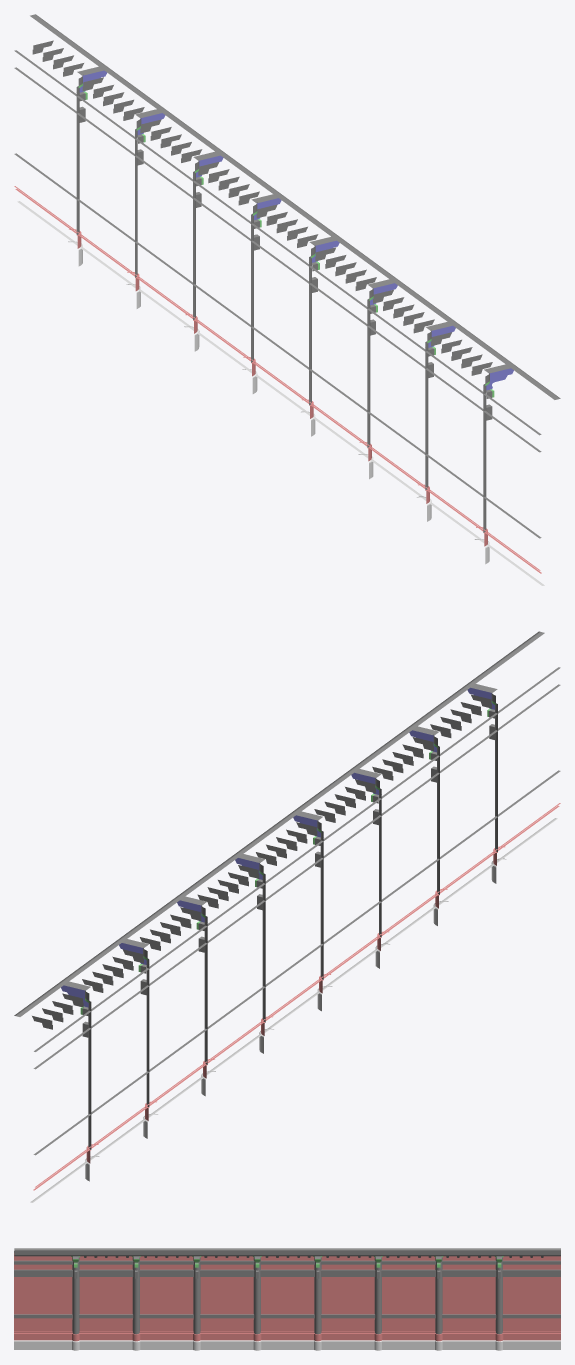
The model's file is SM_ENV_KNVLLG03_Bridge_StraightC_2.gltf.
3 renders of one model, top to bottom at view 1: azimuth 30°, elevation 25°; view 2: azimuth 150°, elevation 25°; view 3: azimuth 270°, elevation 25°, orthographic. The views are drawn at different scales.
Parts seen in each view (by area): view 1: SM_ENV_KNVLLG03_Bridge_StraightC_2; view 2: SM_ENV_KNVLLG03_Bridge_StraightC_2; view 3: SM_ENV_KNVLLG03_Bridge_StraightC_2.
Part boxes in pixels (<box>): SM_ENV_KNVLLG03_Bridge_StraightC_2: <box>14,14,560,585</box>; SM_ENV_KNVLLG03_Bridge_StraightC_2: <box>14,631,560,1202</box>; SM_ENV_KNVLLG03_Bridge_StraightC_2: <box>14,1248,560,1350</box>.
Bounding box in the file's own units: 1.08 × 6.2 × 29.53.
